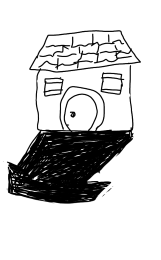closed_window: (98, 69, 126, 97), (41, 76, 66, 98)
door: (56, 84, 107, 137)
roof: (21, 26, 142, 72)
shadow: (5, 126, 142, 205)
wall: (34, 59, 136, 133)
